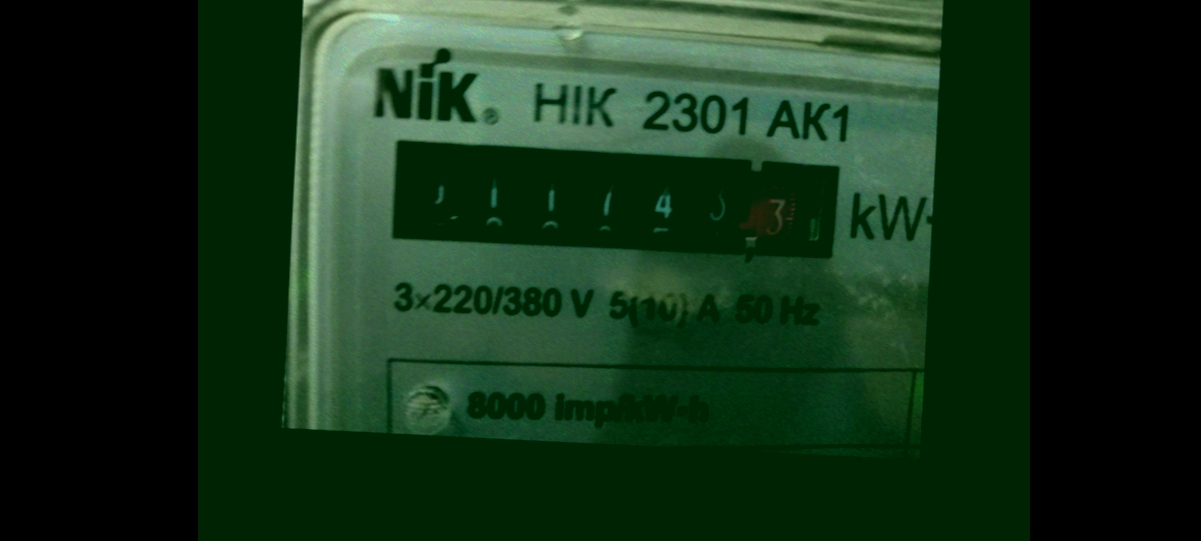0: (421, 159, 452, 208)
1: (541, 166, 564, 215), (486, 164, 505, 212)
3: (704, 177, 735, 225), (764, 194, 790, 239)
4: (650, 173, 681, 222)
7: (596, 171, 623, 220)
screen: (377, 129, 848, 271)
